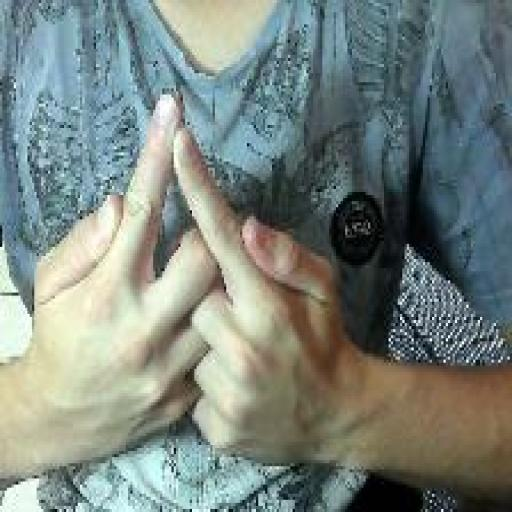Uma -horse-: (28, 86, 345, 472)
